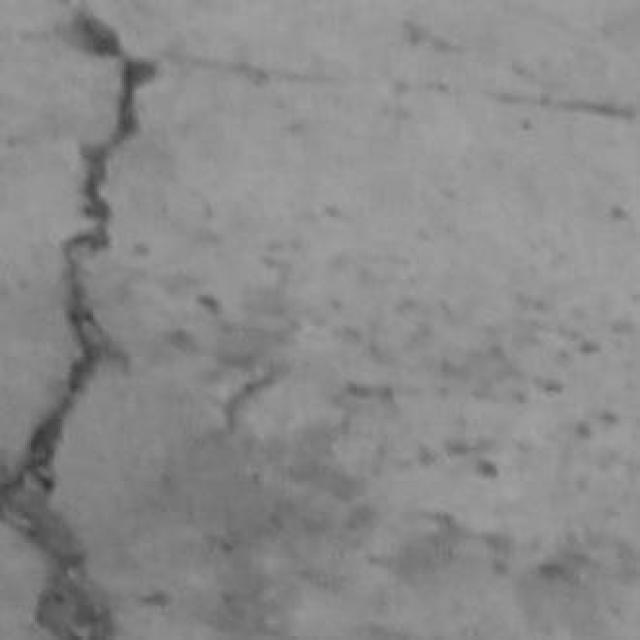crack: (0, 12, 155, 639), (396, 80, 639, 122), (487, 92, 638, 122), (224, 365, 283, 434)
